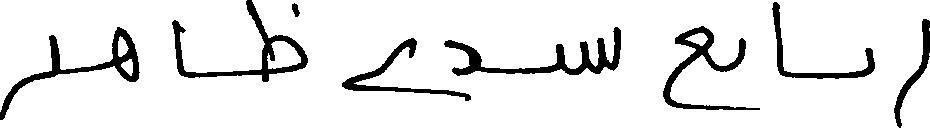X: (0, 30, 59, 124), (246, 0, 307, 86), (342, 33, 415, 97), (663, 21, 711, 114), (896, 14, 929, 127), (445, 35, 479, 105), (557, 33, 602, 79), (113, 22, 138, 86), (772, 0, 785, 81), (734, 33, 745, 114), (172, 15, 184, 81), (612, 22, 620, 75), (865, 43, 874, 80)
